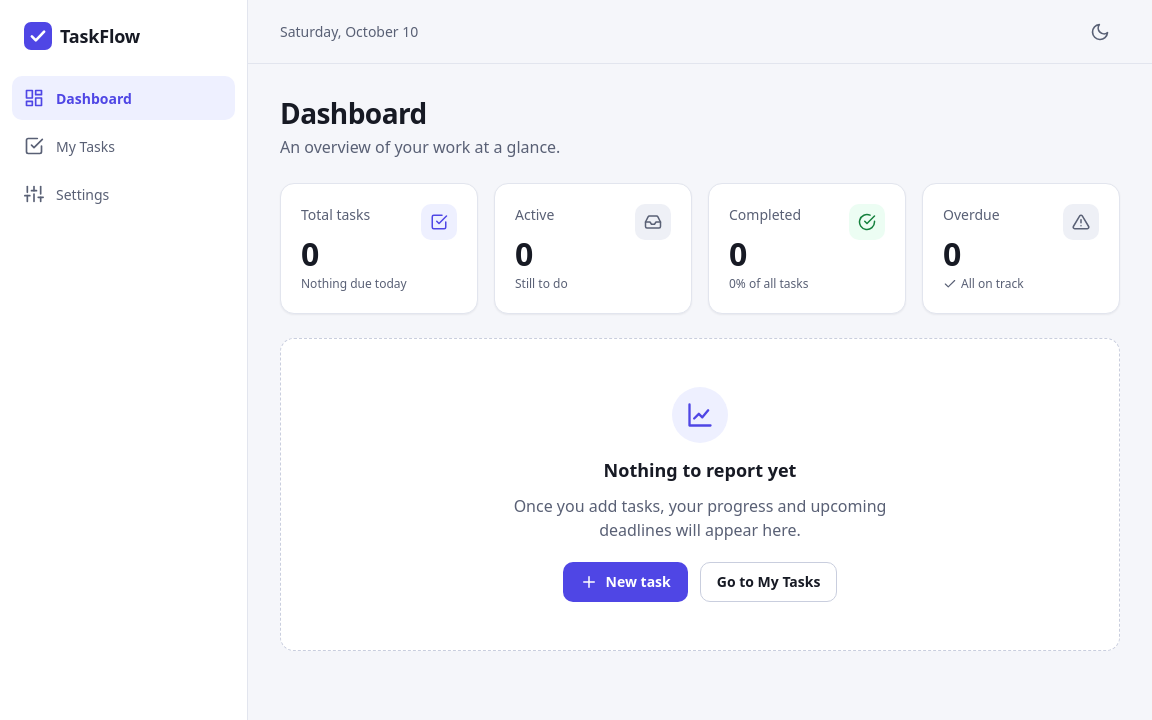
Test case: pages › shows empty states when there are no tasks
The image size is (1152, 720).
expect the heading "Nothing to report yet" is shown: met, box [604, 459, 796, 482]
Click the link "Go to My Tasks" at (769, 582), box [700, 562, 838, 602]
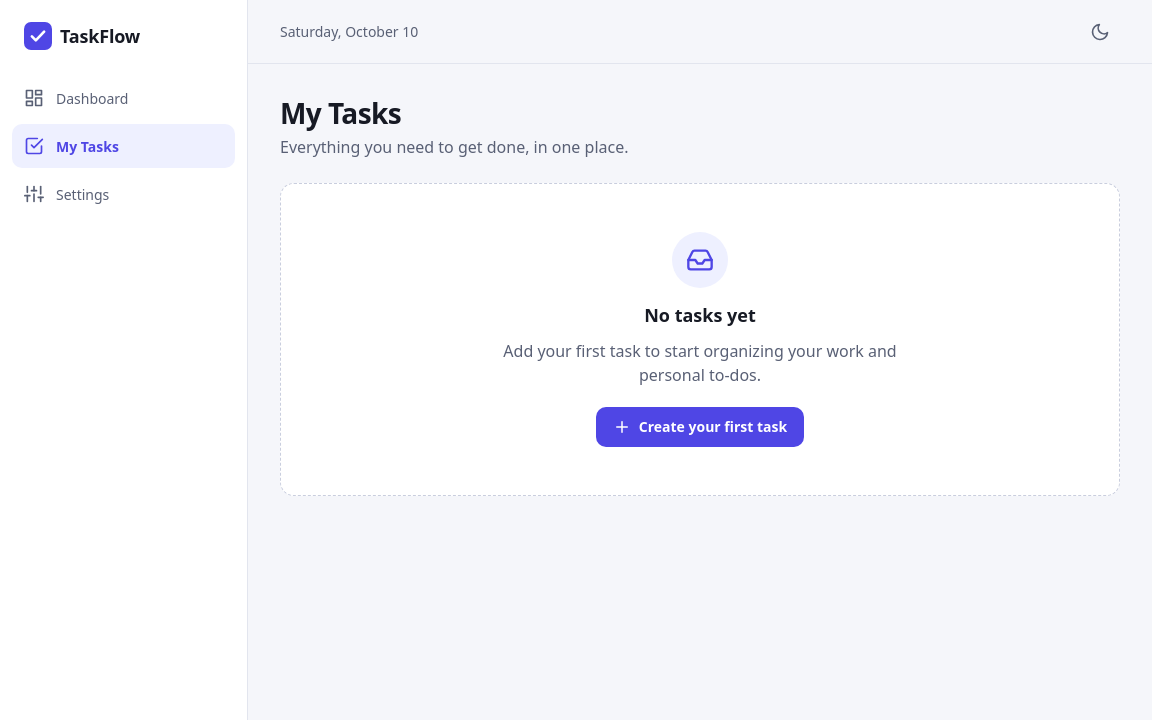
expect the heading "My Tasks" is shown: met, box [280, 94, 401, 132]
expect the heading "No tasks yet" is shown: met, box [644, 304, 756, 326]
